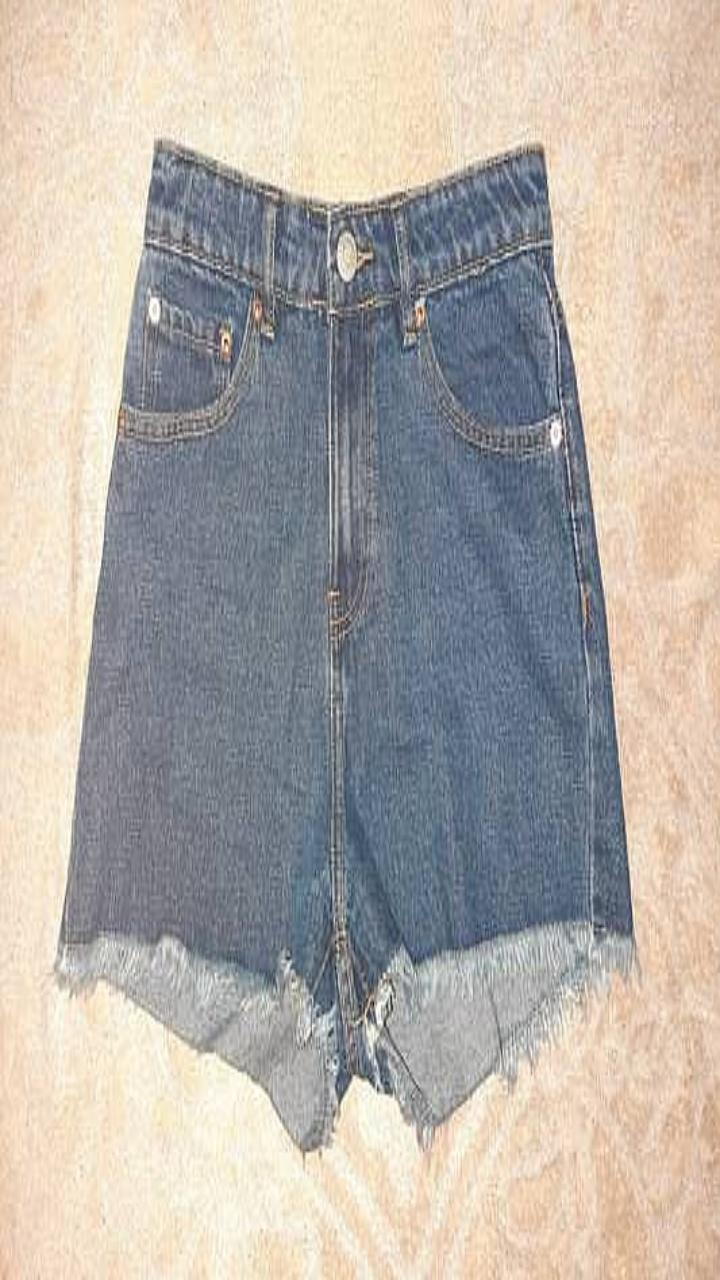Shorts: (54, 139, 638, 1150)
